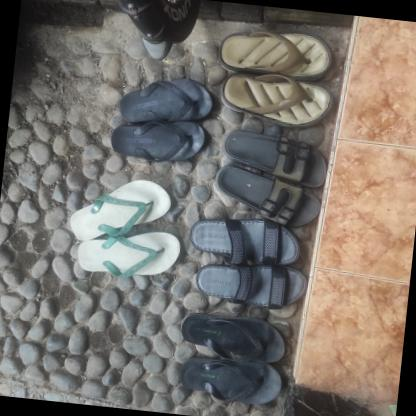Black Slide A: (210, 161, 327, 230), (222, 127, 328, 187)
Black Slide B: (186, 210, 304, 272), (192, 255, 309, 311)
Black Swallow A: (117, 70, 215, 130), (108, 110, 208, 168)
Black Swallow B: (172, 351, 286, 407), (180, 308, 286, 366)
Brown Flip Flop: (216, 67, 336, 129), (214, 22, 340, 80)
Green Swallow: (66, 170, 173, 250), (74, 222, 181, 284)
